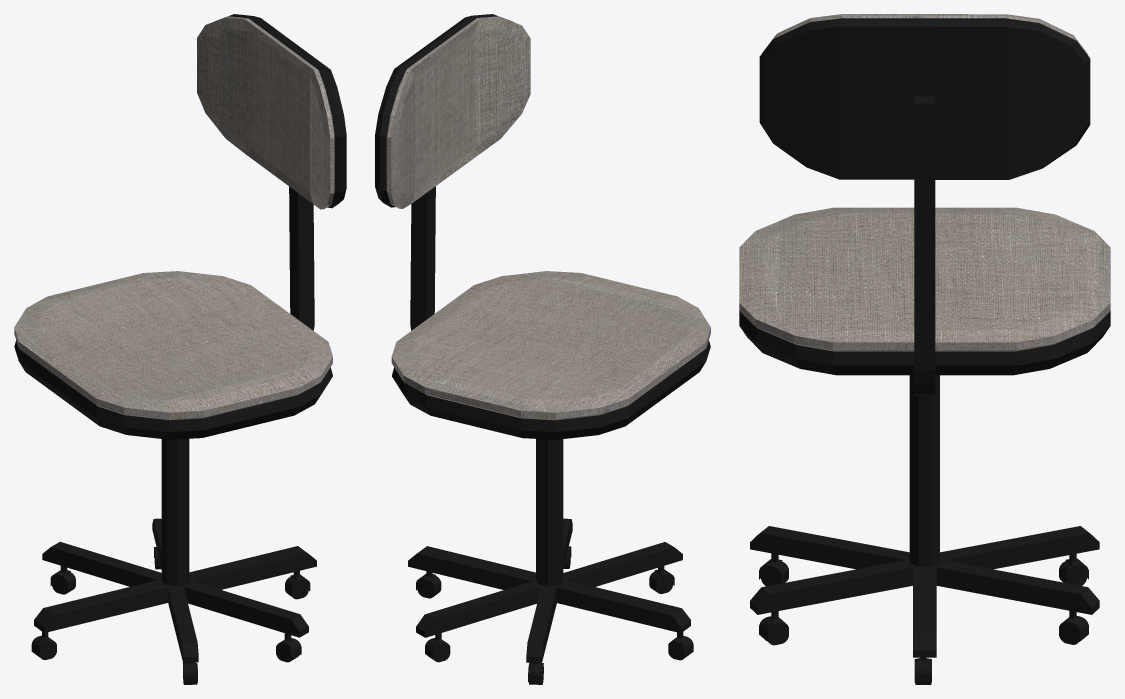
The model's file is Kärpänen_RullaTuoli.fbx.
3 views of the same model, side by side, from view 1: azimuth 30°, elevation 25°; view 2: azimuth 150°, elevation 25°; view 3: azimuth 270°, elevation 25° (orthographic). The views are drawn at different scales.
Parts seen in each view (by area): view 1: Cube.010; view 2: Cube.010; view 3: Cube.010.
Part boxes in pixels (box(x1,y1,x2,y2)): Cube.010: box(14, 14, 346, 684); Cube.010: box(375, 14, 710, 684); Cube.010: box(739, 14, 1110, 684).
Bounding box in the file's own units: 1249 × 2394 × 1221.
Materials: 2 (1 with a texture image).
